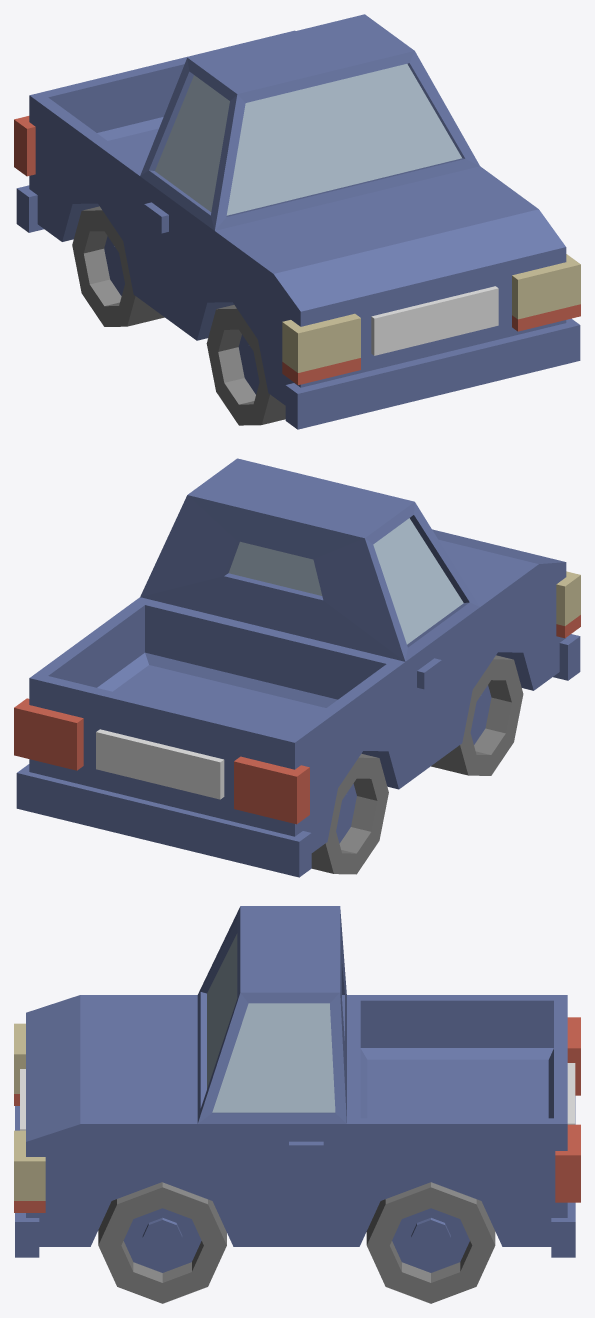
File: Truck.fbx
3 views of the same model, one above another, from view 1: azimuth 30°, elevation 25°; view 2: azimuth 150°, elevation 25°; view 3: azimuth 270°, elevation 25° (orthographic).
Parts seen in each view (by area): view 1: Truck, Wheels rear, Wheels front; view 2: Truck, Wheels front, Wheels rear; view 3: Truck, Wheels rear, Wheels front.
Part boxes in pixels (<box>): Truck: <box>14,14,580,429</box>; Wheels rear: <box>72,206,164,326</box>; Wheels front: <box>206,305,285,425</box>; Truck: <box>14,458,580,877</box>; Wheels front: <box>431,655,523,775</box>; Wheels rear: <box>311,753,388,874</box>; Truck: <box>14,906,580,1257</box>; Wheels rear: <box>366,1182,495,1303</box>; Wheels front: <box>98,1182,226,1303</box>.
Bounding box in the file's own units: 241 × 239 × 419.
